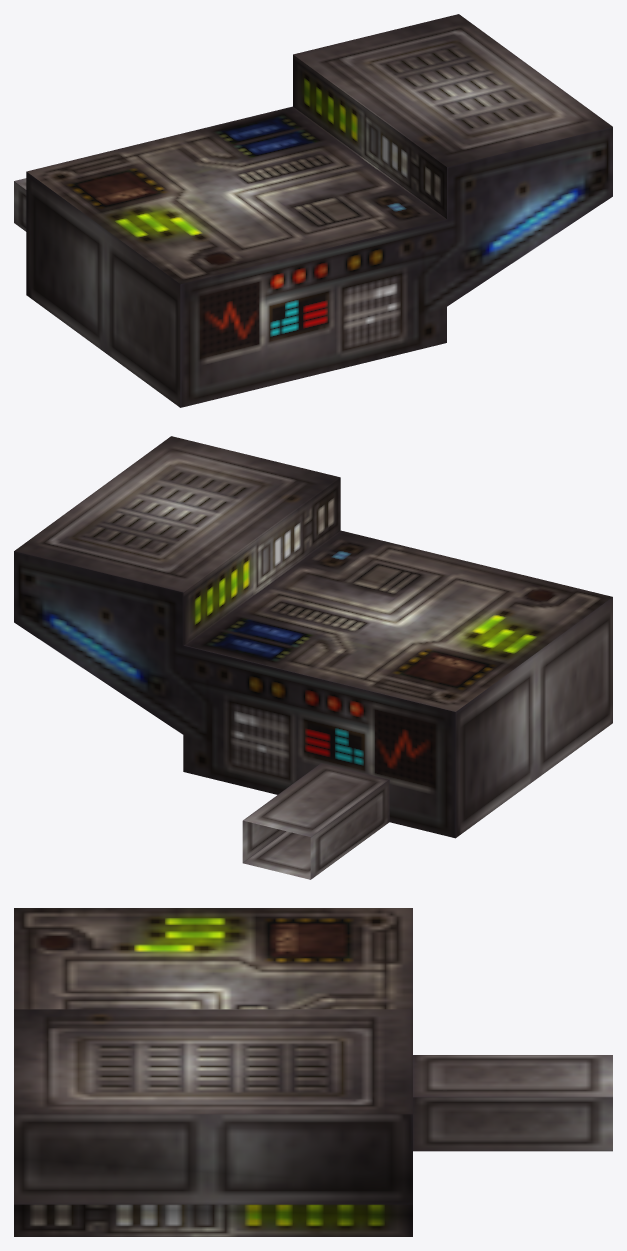
Rendered from acs44.obj.
3 renders of one model, top to bottom at view 1: azimuth 30°, elevation 25°; view 2: azimuth 150°, elevation 25°; view 3: azimuth 270°, elevation 25°, orthographic. The views are drawn at different scales.
Visible parts, largest first — view 1: frm-main, frm-sensor; view 2: frm-main, frm-sensor; view 3: frm-main, frm-sensor.
Boxes of the visible parts, x1=… form: frm-main: x1=26, y1=14, x2=612, y2=407; frm-sensor: x1=14, y1=178, x2=26, y2=231; frm-main: x1=14, y1=436, x2=612, y2=838; frm-sensor: x1=242, y1=763, x2=389, y2=879; frm-main: x1=14, y1=908, x2=412, y2=1236; frm-sensor: x1=413, y1=1055, x2=612, y2=1151.
Bounding box in the file's own units: 3.31 × 1.28 × 3.06.
4 materials, 4 textured.
